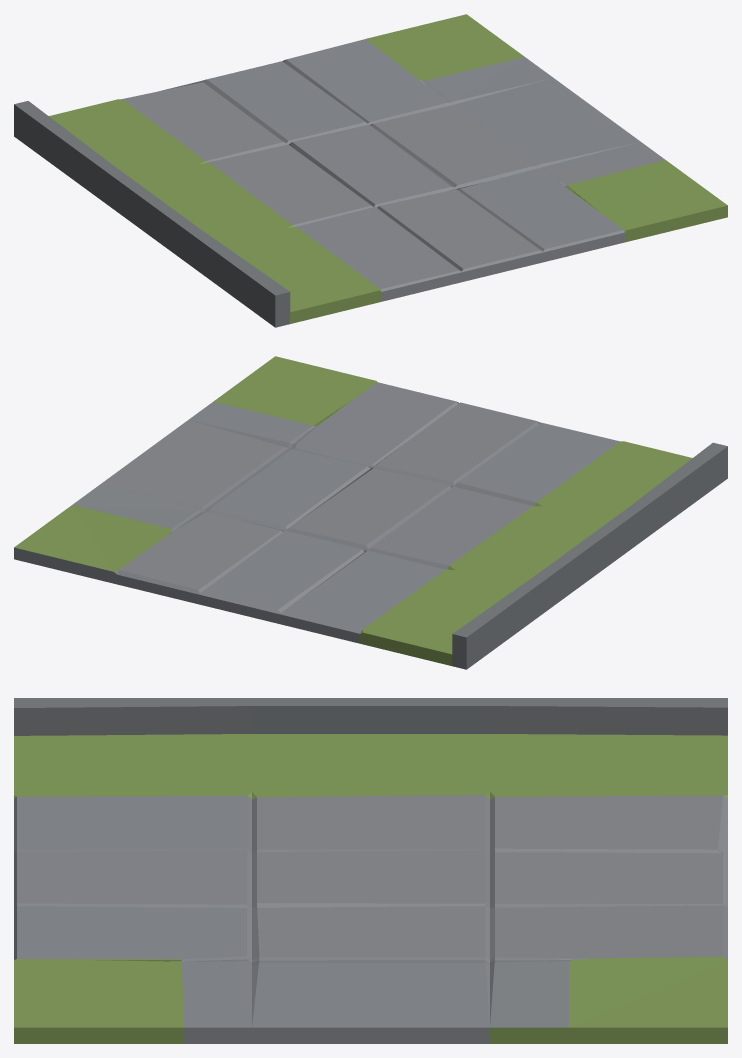
Rendered from Road_023-col.glb.
The picture shows the model from 3 angles, top to bottom: view 1: azimuth 30°, elevation 25°; view 2: azimuth 150°, elevation 25°; view 3: azimuth 270°, elevation 25°; orthographic projection. The views are drawn at different scales.
Visible parts, largest first — view 1: Sidewalk_06_A-col; view 2: Sidewalk_06_A-col; view 3: Sidewalk_06_A-col.
Boxes of the visible parts, x1,y1,x2,y2 form: Sidewalk_06_A-col: (14, 14, 727, 327); Sidewalk_06_A-col: (14, 356, 727, 669); Sidewalk_06_A-col: (14, 698, 727, 1043).
Size of the model in its own units: 2 by 0.1361 by 2.
Materials: 1 (1 with a texture image).
